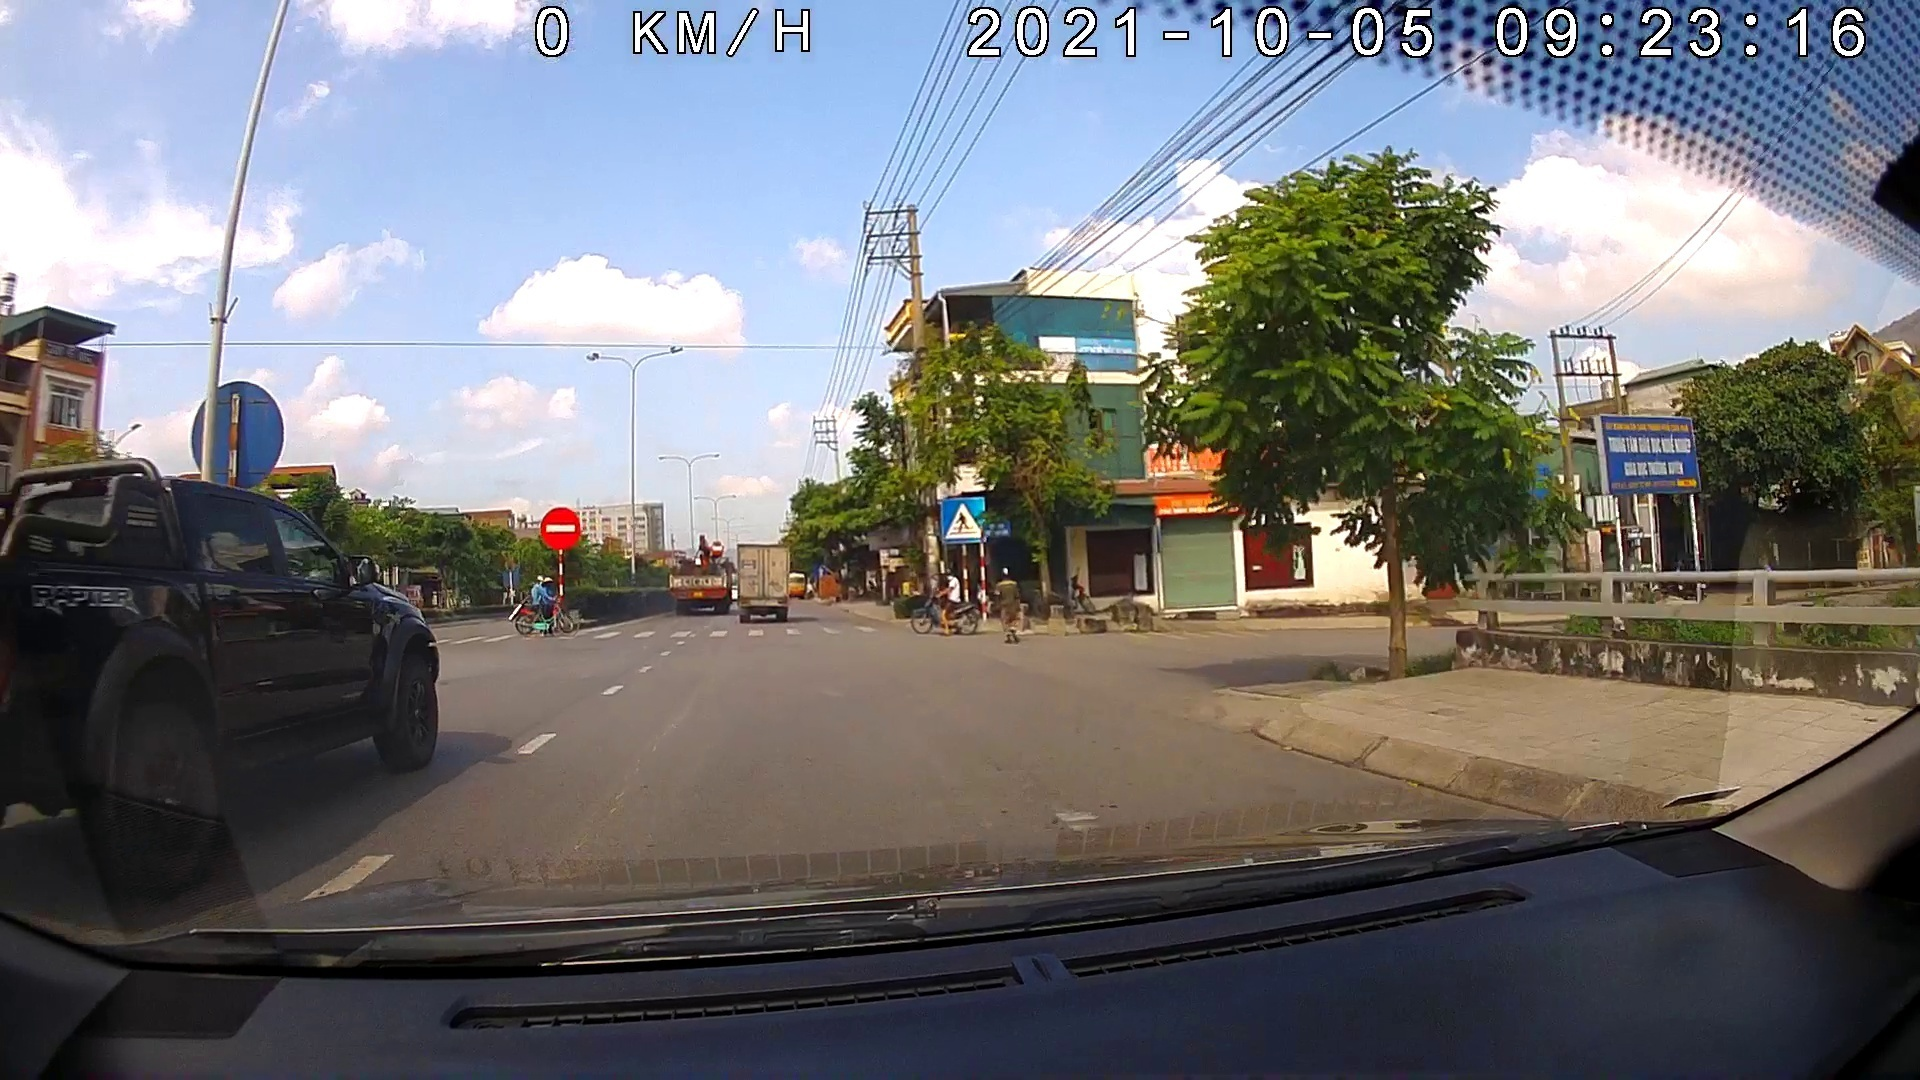Cam di nguoc chieu: (541, 506, 579, 551)
Nguoi di bo: (942, 495, 986, 543)
